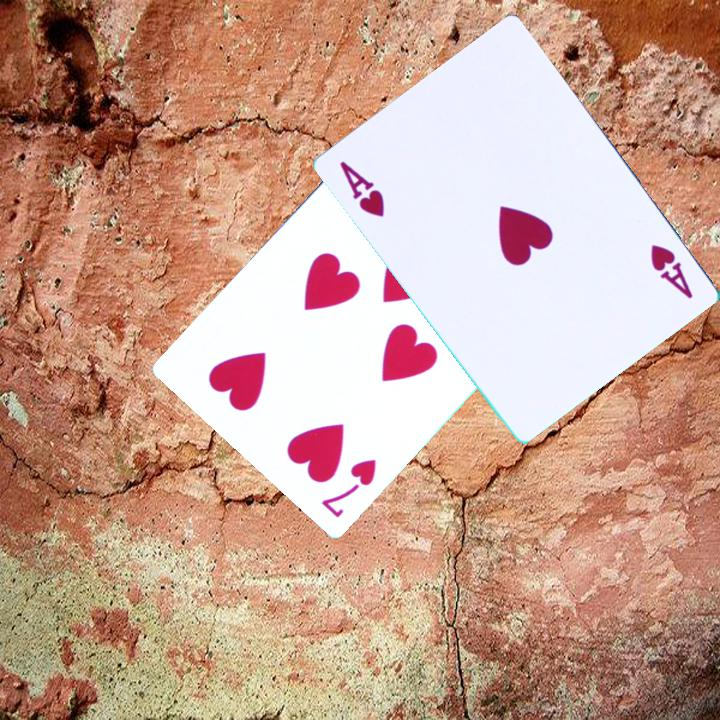7h: (318, 456, 380, 522)
Ah: (335, 157, 387, 220), (646, 240, 695, 302)
